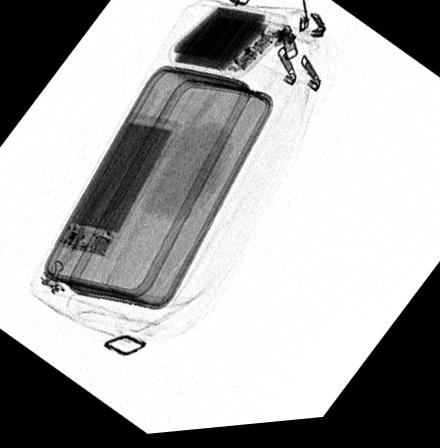Powerbank: (54, 112, 181, 261), (165, 6, 286, 85)
